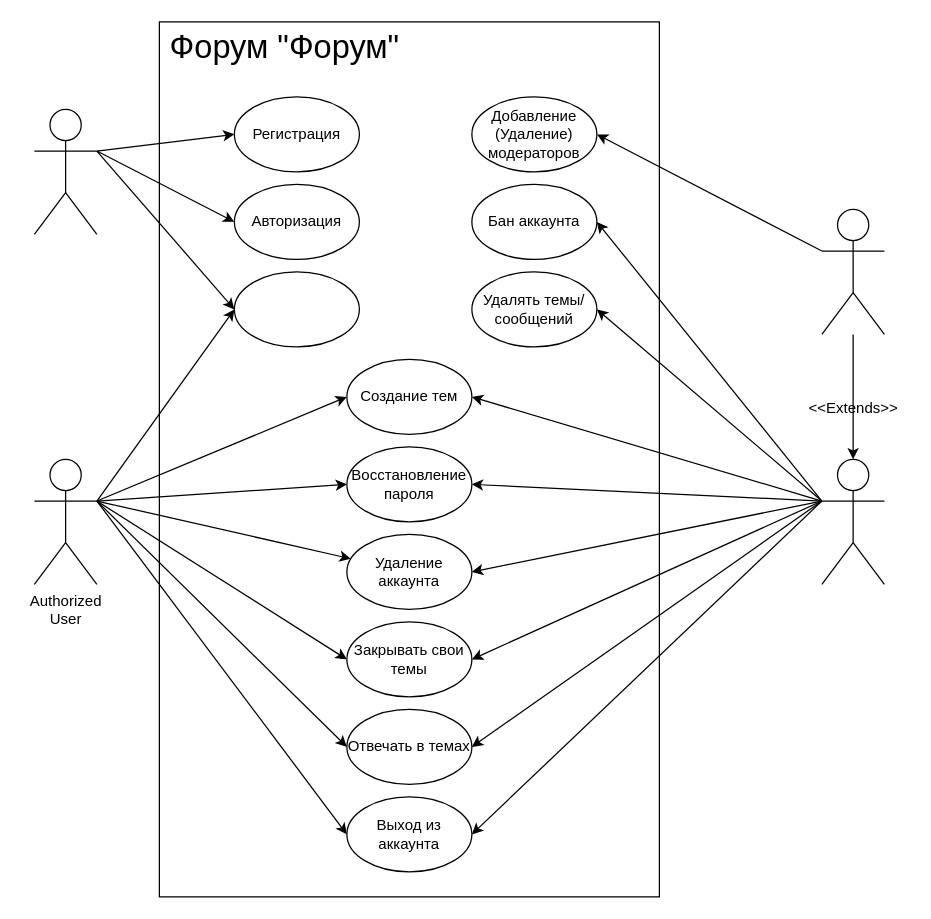
The diagram is 931 pixels wide and 919 high, and some of its shapes have lost their labels. Here are the shapes that lost their labels. From the top down, the centre of each, then its label:
At point (65, 171): "Unauthorized User".
At point (852, 271): "Admin".
At point (296, 309): "Поиск/Просмотр тем".
At point (852, 521): "Moderator".
